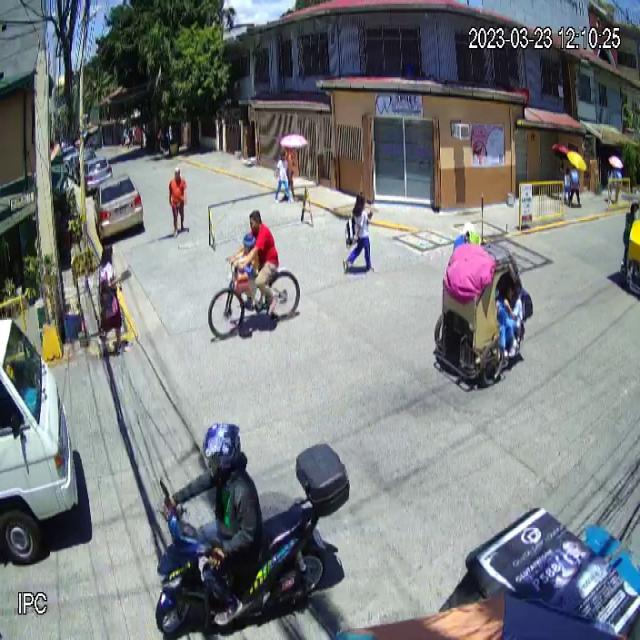Car: (94, 173, 144, 241)
Motorcycle: (153, 440, 352, 638)
Tricycle: (433, 224, 534, 387)
